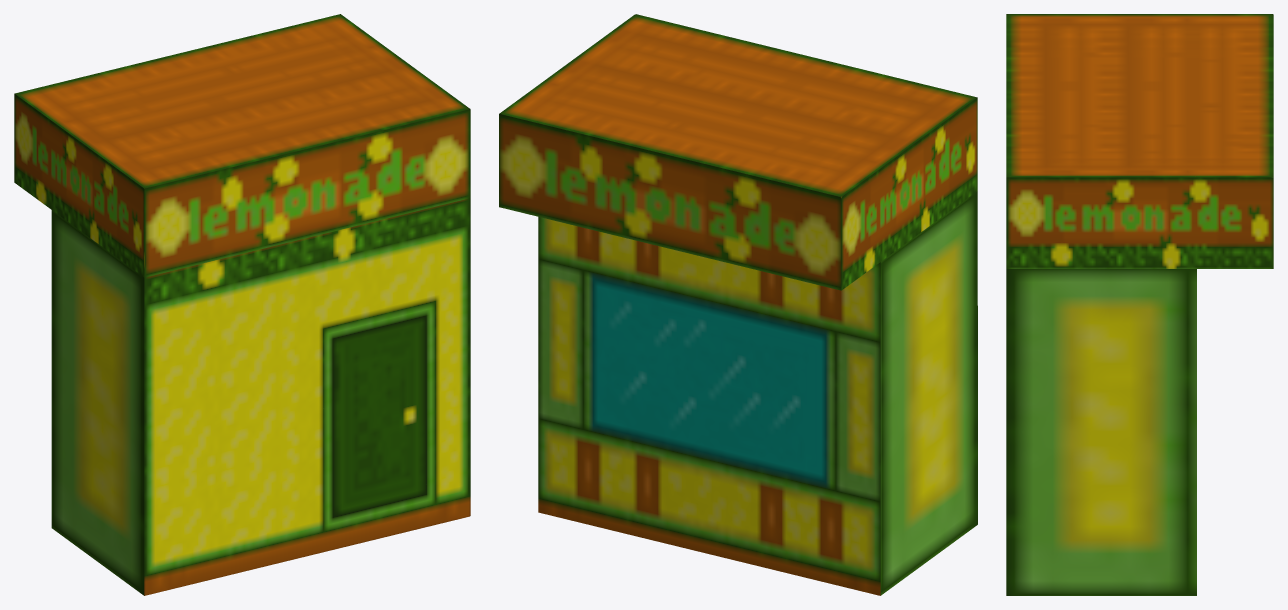
The model's file is BLOCKYGON_MINISHOP(LLEMONADE).fbx.
3 views of the same model, side by side, from view 1: azimuth 30°, elevation 25°; view 2: azimuth 150°, elevation 25°; view 3: azimuth 270°, elevation 25° (orthographic). The views are drawn at different scales.
Parts seen in each view (by area): view 1: BLOCKYGON_MINISHOP_LLEMONADE_; view 2: BLOCKYGON_MINISHOP_LLEMONADE_; view 3: BLOCKYGON_MINISHOP_LLEMONADE_.
Part boxes in pixels (left/top/right/bottom): BLOCKYGON_MINISHOP_LLEMONADE_: left=14, top=14, right=470, bottom=595; BLOCKYGON_MINISHOP_LLEMONADE_: left=499, top=14, right=977, bottom=595; BLOCKYGON_MINISHOP_LLEMONADE_: left=1006, top=14, right=1273, bottom=595.
Size of the model in its own units: 306 by 365 by 211.
Materials: 1 (1 with a texture image).
